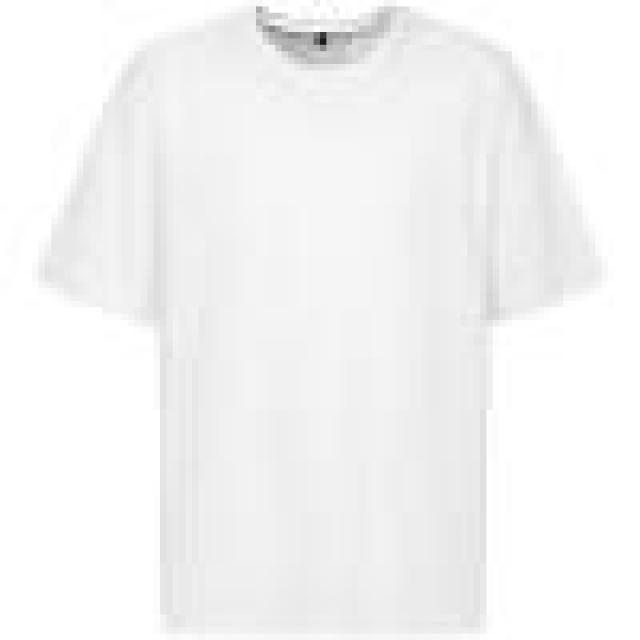Shirt: (62, 10, 594, 640)
